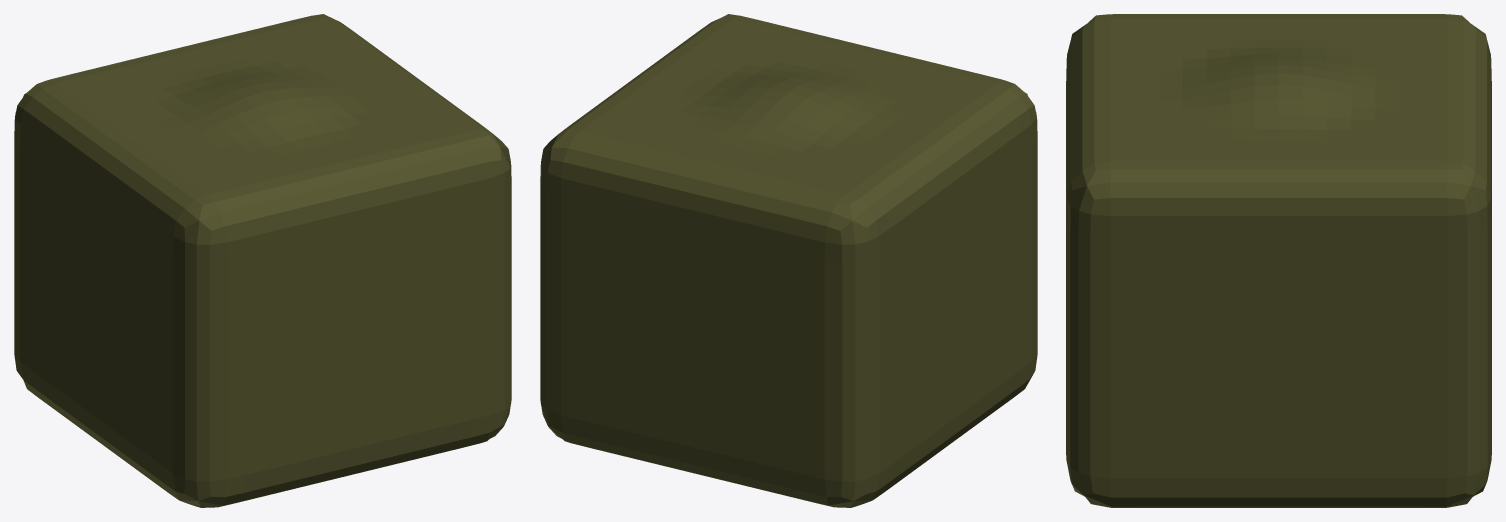
File: ATL-POF-std.glb
The picture shows the model from 3 angles, left to right: view 1: azimuth 30°, elevation 25°; view 2: azimuth 150°, elevation 25°; view 3: azimuth 270°, elevation 25°; orthographic projection. The views are drawn at different scales.
Parts seen in each view (by area): view 1: pillow-pouf:pbr; view 2: pillow-pouf:pbr; view 3: pillow-pouf:pbr.
Boxes of the visible parts, x1,y1,x2,y2 form: pillow-pouf:pbr: (14,14,511,507); pillow-pouf:pbr: (540,14,1037,507); pillow-pouf:pbr: (1066,14,1491,507).
Bounding box in the file's own units: 0.45 × 0.4385 × 0.45.
